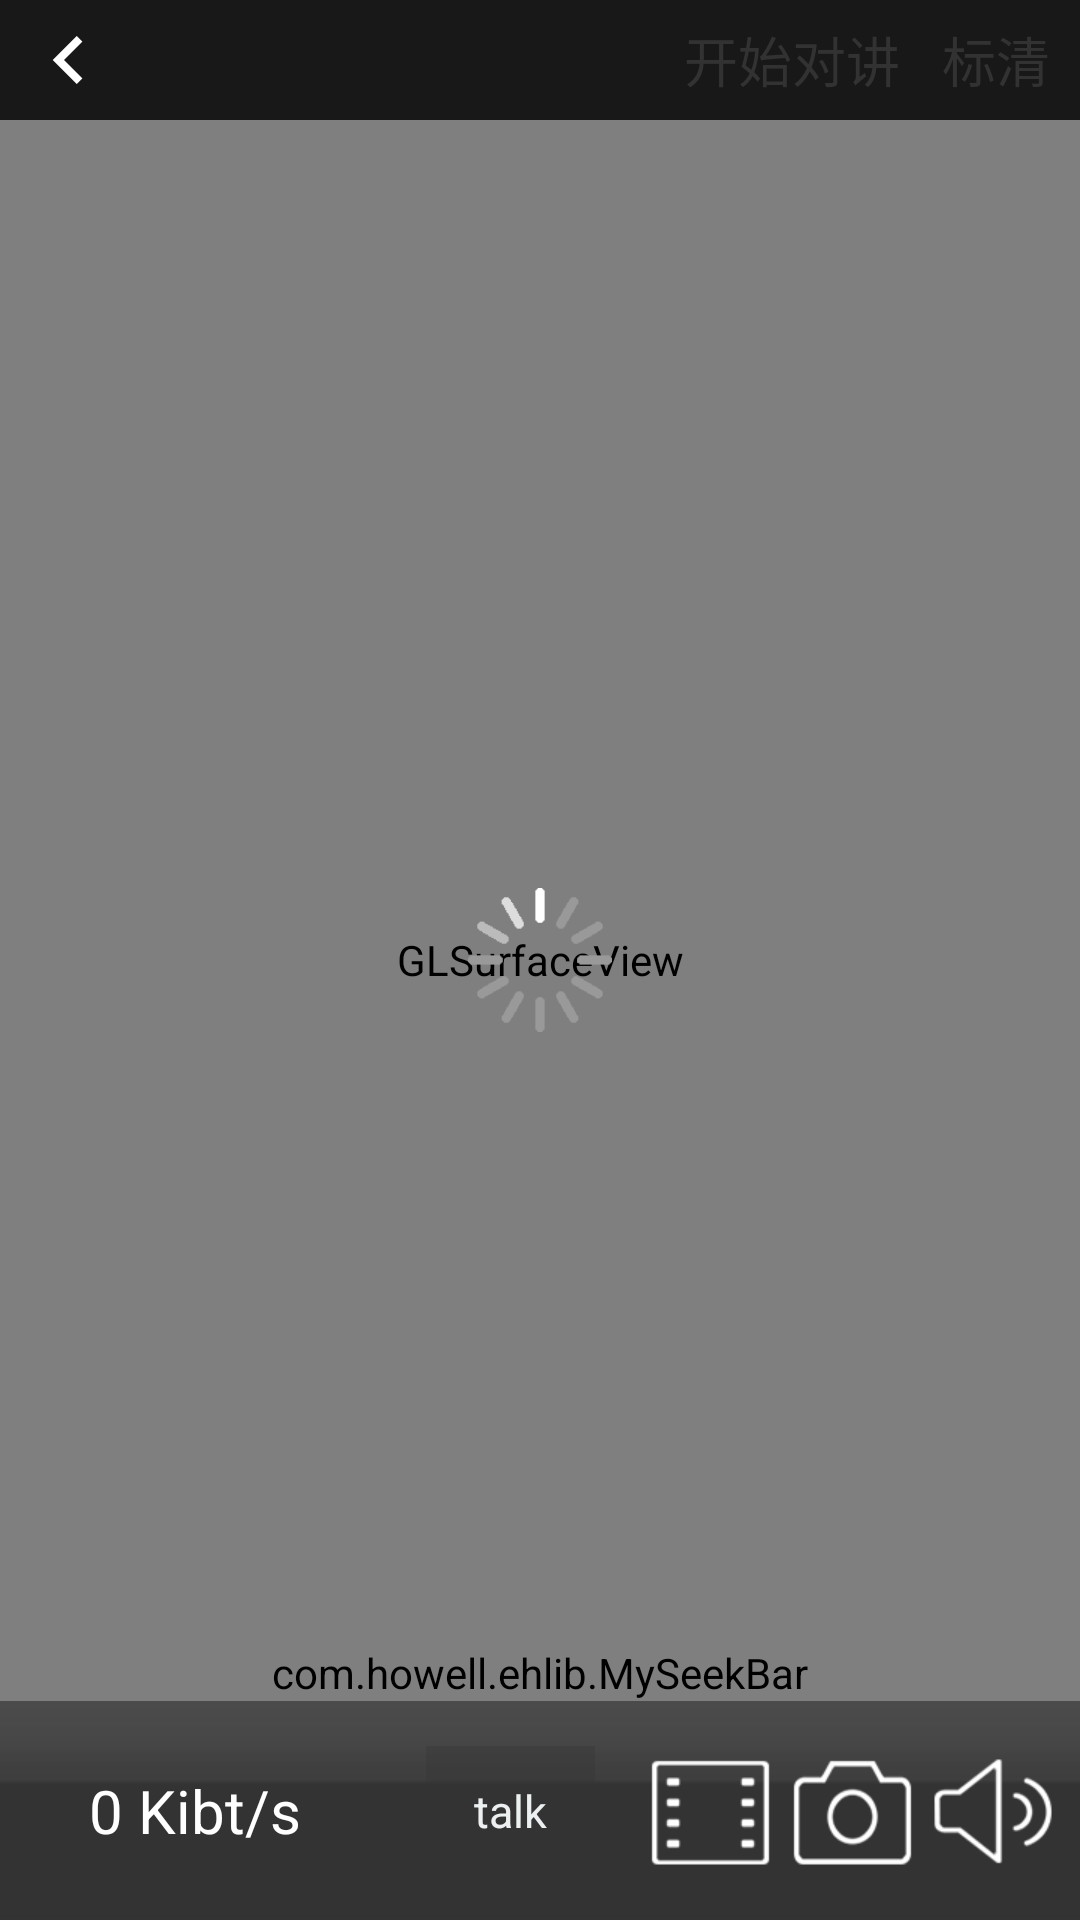

Icon click points for this 1080px×1920px phone screenshot, format (x=x, y=y):
back: (x=68, y=60)
record: (x=710, y=1812)
sound: (x=993, y=1811)
take photo: (x=852, y=1812)
